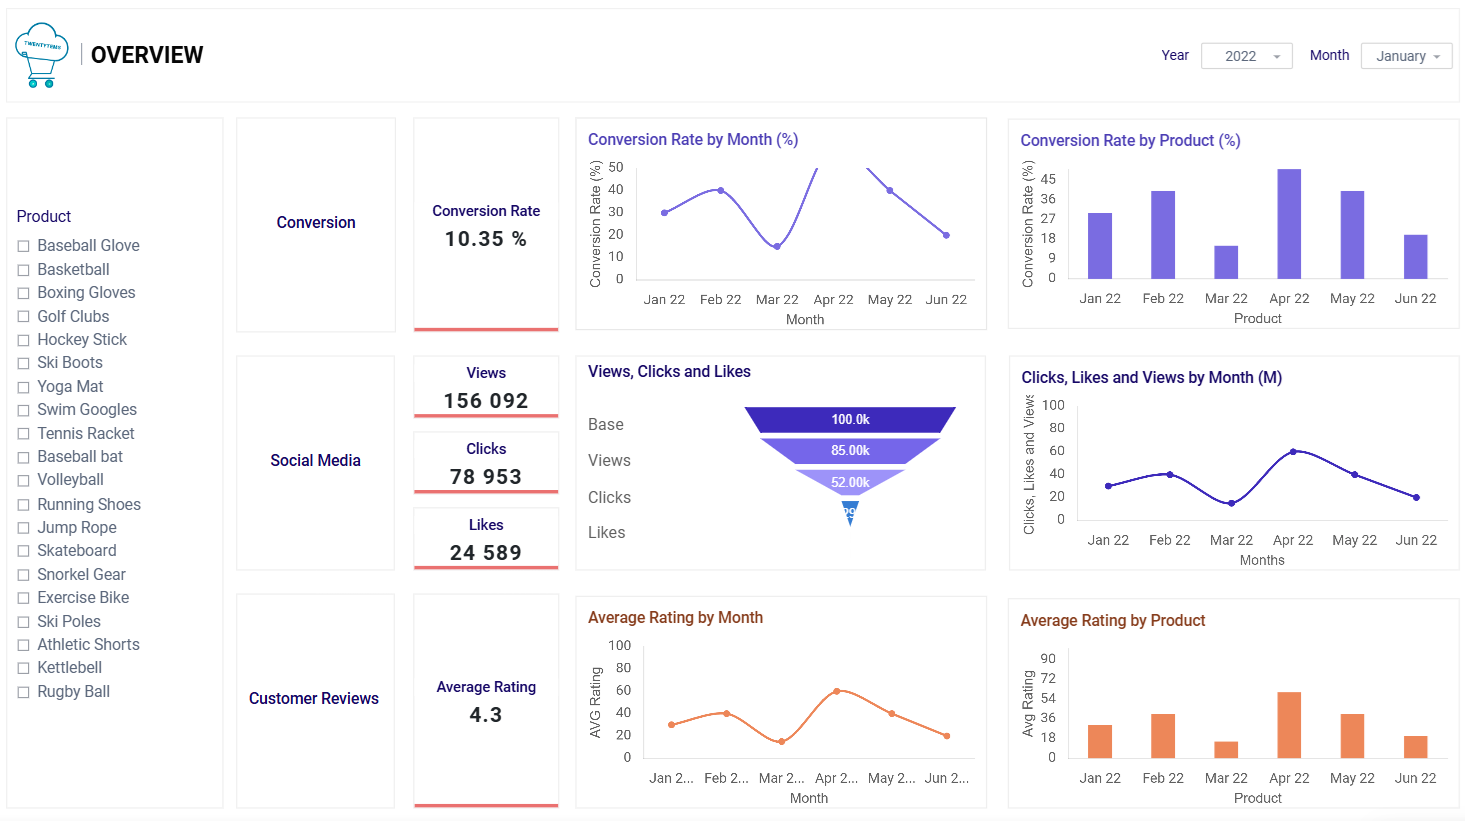

What the dashboard file says about the page in this screenshot:
{"tool":"powerbi","page":{"name":"Overview","canvas":[1280,720],"ordinal":0},"visuals":[{"type":"textbox","box":[0,0,1280,70],"z":0},{"type":"slicer","fields":{"Values":["final_products.ProductName"]},"box":[0,80.7,164.4,639],"z":1000},{"type":"textbox","box":[175.5,80.5,125.2,209],"z":2000},{"type":"textbox","box":[175.5,295.1,125.2,210.2],"z":3000},{"type":"textbox","box":[175.5,510.9,125.2,209],"z":4000},{"type":"card","fields":{"Values":["Key Measures.Conversion Rate"]},"box":[308.8,80.2,107,209.6],"z":5000},{"type":"card","fields":{"Values":["Key Measures.Views"]},"box":[308.8,295,107,64.7],"z":6000},{"type":"card","fields":{"Values":["Key Measures.Clicks"]},"box":[308.8,367.4,107,63.8],"z":7000},{"type":"card","fields":{"Values":["Key Measures.Likes"]},"box":[308.8,440.8,107,64.7],"z":8000},{"type":"card","fields":{"Values":["Key Measures.AVG Rating"]},"box":[308.8,510.6,107,209.6],"z":9000},{"type":"slicer","fields":{"Values":["Calendar.Year"]},"box":[226,16.4,249.3,35.4],"z":10000},{"type":"slicer","fields":{"Values":["Calendar.MonthNameShort"]},"box":[475.1,16.8,804.9,34.7],"z":11000},{"type":"lineChart","title":"Conversion Rate by Month","fields":{"Category":["Calendar.MonthNameShort"],"Y":["Key Measures.Conversion Rate"]},"box":[423.5,80.2,354.5,209.6],"z":12000},{"type":"clusteredColumnChart","title":"Conversion Rate by Product","fields":{"Y":["Key Measures.Conversion Rate"],"Category":["final_products.ProductName"]},"box":[786.6,80.2,493.4,209.6],"z":13000},{"type":"lineChart","title":"Clicks, Likes and Views by Month","fields":{"Category":["Calendar.MonthNameShort"],"Y":["Key Measures.Clicks","Key Measures.Likes","Key Measures.Views"]},"box":[786.6,295,493.4,211.3],"z":14000},{"type":"funnel","title":"Views, Clicks and Likes","fields":{"Y":["Key Measures.Views","Key Measures.Clicks","Key Measures.Likes"]},"box":[423.5,295,354.5,210.5],"z":15000},{"type":"lineChart","title":"Average Rating by Month","fields":{"Category":["Calendar.MonthNameShort"],"Y":["Key Measures.AVG Rating"]},"box":[423.5,510.6,354.5,208.7],"z":16000},{"type":"clusteredColumnChart","title":"AVG Rating by Product","fields":{"Category":["final_products.ProductName"],"Y":["Key Measures.AVG Rating"]},"box":[786.6,510.6,493.4,208.7],"z":17000}]}

Visuals, with their boxes in screenshot pixels (x1, y1, x2, y2), scaled from the page's 1280x720 canvas onto the 1465x821 screenshot:
textbox: <box>0,0,1464,80</box>
slicer - final_products.ProductName: <box>0,92,188,820</box>
textbox: <box>201,92,344,330</box>
textbox: <box>201,336,344,576</box>
textbox: <box>201,583,344,820</box>
card - Key Measures.Conversion Rate: <box>353,91,476,330</box>
card - Key Measures.Views: <box>353,336,476,410</box>
card - Key Measures.Clicks: <box>353,419,476,492</box>
card - Key Measures.Likes: <box>353,503,476,576</box>
card - Key Measures.AVG Rating: <box>353,582,476,820</box>
slicer - Calendar.Year: <box>259,19,544,59</box>
slicer - Calendar.MonthNameShort: <box>544,19,1464,59</box>
"Conversion Rate by Month" lineChart: <box>485,91,890,330</box>
"Conversion Rate by Product" clusteredColumnChart: <box>900,91,1464,330</box>
"Clicks, Likes and Views by Month" lineChart: <box>900,336,1464,577</box>
"Views, Clicks and Likes" funnel: <box>485,336,890,576</box>
"Average Rating by Month" lineChart: <box>485,582,890,820</box>
"AVG Rating by Product" clusteredColumnChart: <box>900,582,1464,820</box>
